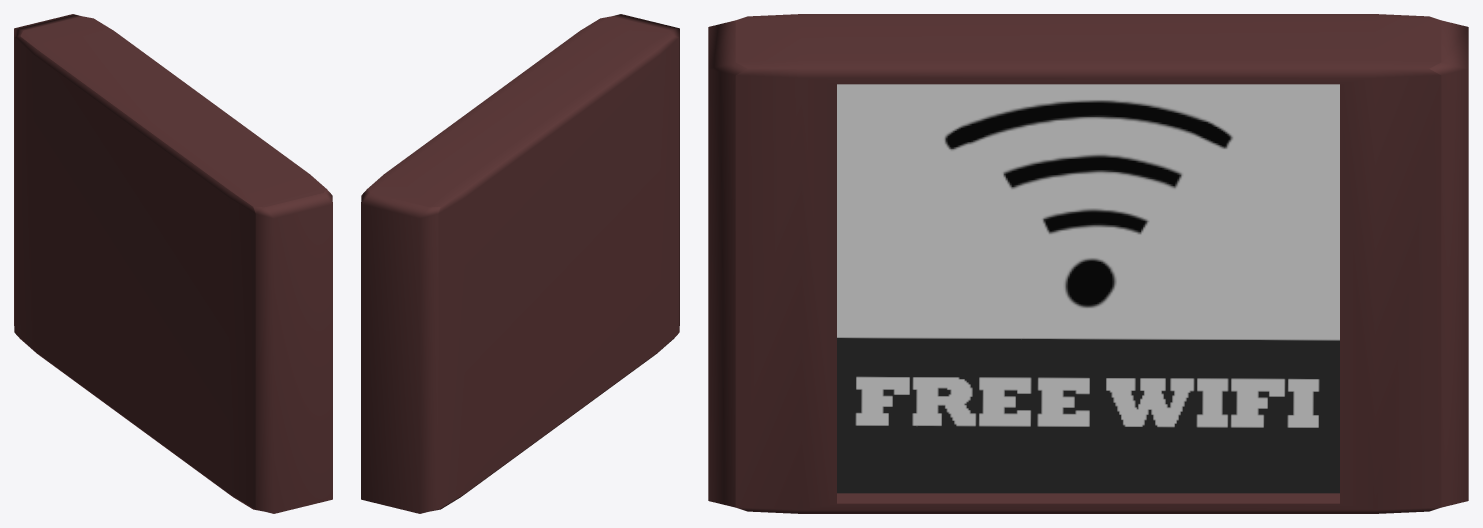
The model's file is BuildingSign_13.fbx.
The picture shows the model from 3 angles, left to right: view 1: azimuth 30°, elevation 25°; view 2: azimuth 150°, elevation 25°; view 3: azimuth 270°, elevation 25°; orthographic projection. The views are drawn at different scales.
Parts seen in each view (by area): view 1: polySurface965; view 2: polySurface965; view 3: polySurface965.
Part boxes in pixels (left/top/right/bottom): polySurface965: left=14, top=14, right=332, bottom=513; polySurface965: left=361, top=14, right=679, bottom=513; polySurface965: left=708, top=14, right=1468, bottom=513.
Bounding box in the file's own units: 0.2143 × 0.7504 × 1.15.
